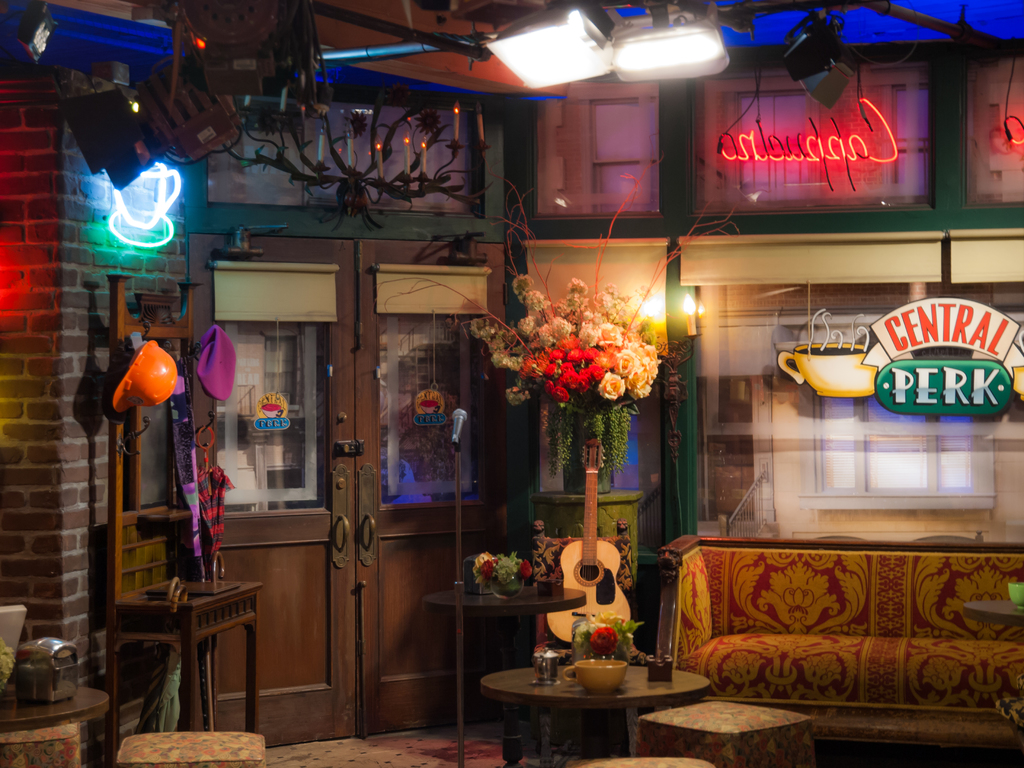Cabinetry: (103, 212, 509, 742)
